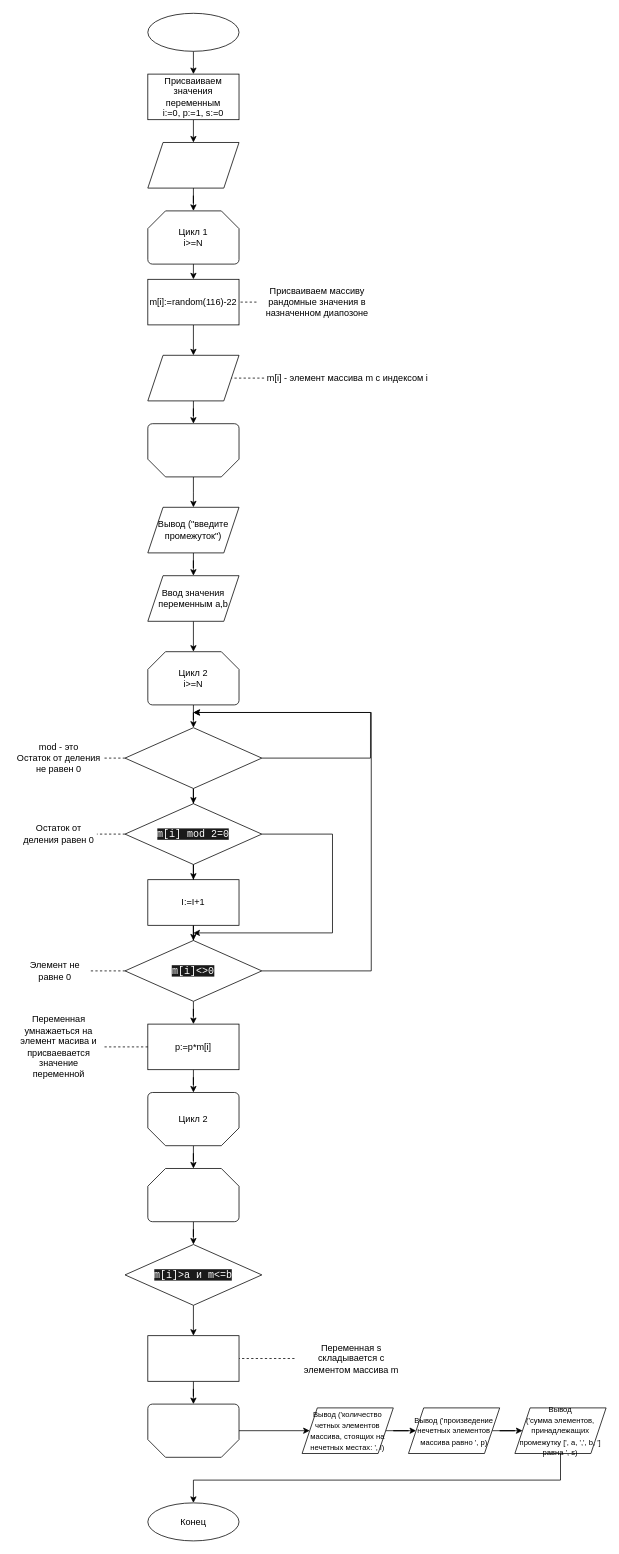
Some shapes in this 619 by 1554 pixel diagram are drawn without their labels. The shapes that lost their labels are listed below. From the top down, each one's box as (x1, y1, x2, y2) in pixels, then its label:
(147, 13, 239, 51): Начало
(147, 142, 239, 188): Вывод ('Исходный массив')
(147, 355, 239, 401): Вывод m[i]
(147, 423, 239, 477): Цикл 1
(124, 727, 262, 788): i mod 2<>0
(147, 1168, 239, 1222): Цикл 3 i>=N
(147, 1335, 239, 1381): s:=s+m[i]
(147, 1403, 239, 1457): Цикл 3
